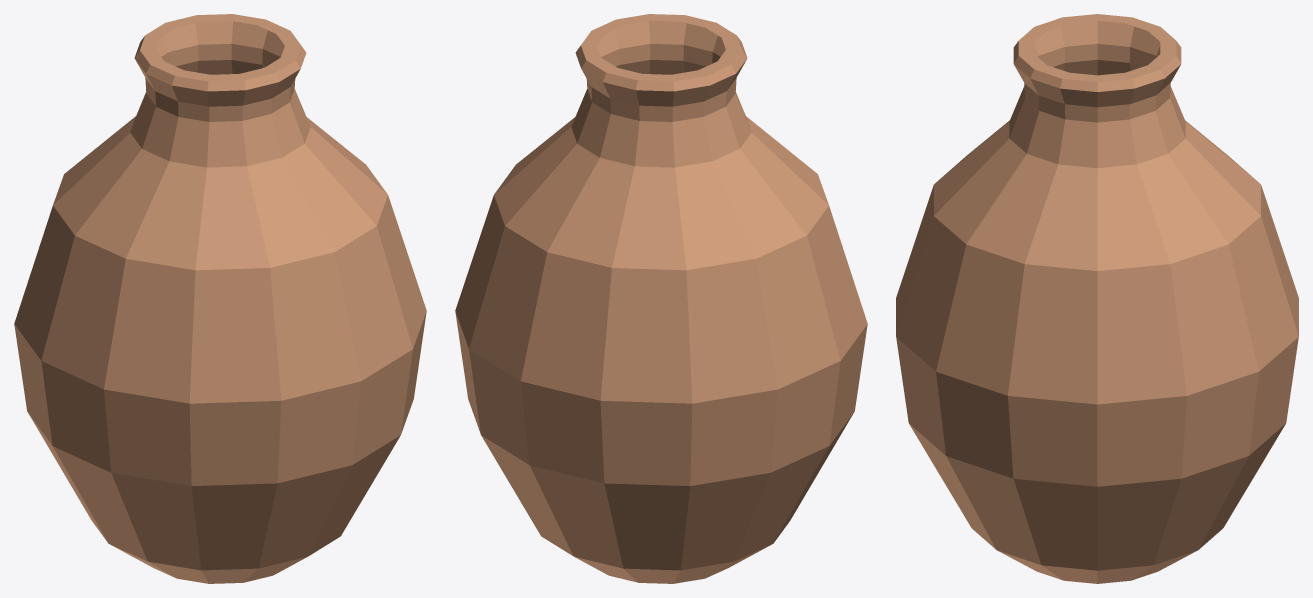
Rendered from SM_DST_Prop_Pot_Clay_S_Frac.fbx.
3 views of the same model, side by side, from view 1: azimuth 30°, elevation 25°; view 2: azimuth 150°, elevation 25°; view 3: azimuth 270°, elevation 25° (orthographic).
Visible parts, largest first — view 1: SM_DST_Prop_Pot_Clay_S.002_p06, SM_DST_Prop_Pot_Clay_S.002_p04, SM_DST_Prop_Pot_Clay_S.002_p02, SM_DST_Prop_Pot_Clay_S.002_p09, SM_DST_Prop_Pot_Clay_S.002_p07, SM_DST_Prop_Pot_Clay_S.002_p05, SM_DST_Prop_Pot_Clay_S.002_p00, SM_DST_Prop_Pot_Clay_S.002_p03; view 2: SM_DST_Prop_Pot_Clay_S.002_p06, SM_DST_Prop_Pot_Clay_S.002_p08, SM_DST_Prop_Pot_Clay_S.002_p07, SM_DST_Prop_Pot_Clay_S.002_p05, SM_DST_Prop_Pot_Clay_S.002_p04, SM_DST_Prop_Pot_Clay_S.002_p00; view 3: SM_DST_Prop_Pot_Clay_S.002_p06, SM_DST_Prop_Pot_Clay_S.002_p00, SM_DST_Prop_Pot_Clay_S.002_p08, SM_DST_Prop_Pot_Clay_S.002_p03, SM_DST_Prop_Pot_Clay_S.002_p01, SM_DST_Prop_Pot_Clay_S.002_p02, SM_DST_Prop_Pot_Clay_S.002_p04, SM_DST_Prop_Pot_Clay_S.002_p05, SM_DST_Prop_Pot_Clay_S.002_p09.
Boxes of the visible parts, <box> form: SM_DST_Prop_Pot_Clay_S.002_p06: <box>37,14,407,363</box>; SM_DST_Prop_Pot_Clay_S.002_p04: <box>35,265,396,501</box>; SM_DST_Prop_Pot_Clay_S.002_p02: <box>103,406,401,552</box>; SM_DST_Prop_Pot_Clay_S.002_p09: <box>94,480,345,583</box>; SM_DST_Prop_Pot_Clay_S.002_p07: <box>19,361,134,557</box>; SM_DST_Prop_Pot_Clay_S.002_p05: <box>14,254,47,410</box>; SM_DST_Prop_Pot_Clay_S.002_p00: <box>362,161,426,416</box>; SM_DST_Prop_Pot_Clay_S.002_p03: <box>391,360,407,432</box>; SM_DST_Prop_Pot_Clay_S.002_p06: <box>501,14,830,315</box>; SM_DST_Prop_Pot_Clay_S.002_p08: <box>466,260,692,534</box>; SM_DST_Prop_Pot_Clay_S.002_p07: <box>562,413,834,583</box>; SM_DST_Prop_Pot_Clay_S.002_p05: <box>526,309,832,549</box>; SM_DST_Prop_Pot_Clay_S.002_p04: <box>804,173,867,448</box>; SM_DST_Prop_Pot_Clay_S.002_p00: <box>455,161,519,413</box>; SM_DST_Prop_Pot_Clay_S.002_p06: <box>912,14,1263,367</box>; SM_DST_Prop_Pot_Clay_S.002_p00: <box>928,250,1249,526</box>; SM_DST_Prop_Pot_Clay_S.002_p08: <box>1184,190,1298,525</box>; SM_DST_Prop_Pot_Clay_S.002_p03: <box>925,366,1189,546</box>; SM_DST_Prop_Pot_Clay_S.002_p01: <box>1018,524,1199,583</box>; SM_DST_Prop_Pot_Clay_S.002_p02: <box>905,403,1022,546</box>; SM_DST_Prop_Pot_Clay_S.002_p04: <box>896,203,929,407</box>; SM_DST_Prop_Pot_Clay_S.002_p05: <box>1176,504,1237,548</box>; SM_DST_Prop_Pot_Clay_S.002_p09: <box>966,519,1072,581</box>.
Bounding box in the file's own units: 0.352 × 0.473 × 0.3432.
